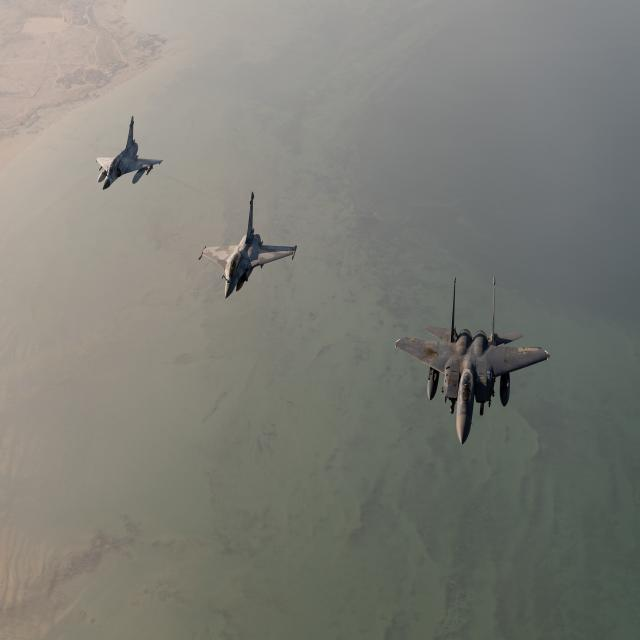MIL_Plane: (394, 276, 550, 445), (198, 191, 298, 299), (95, 84, 163, 160)
